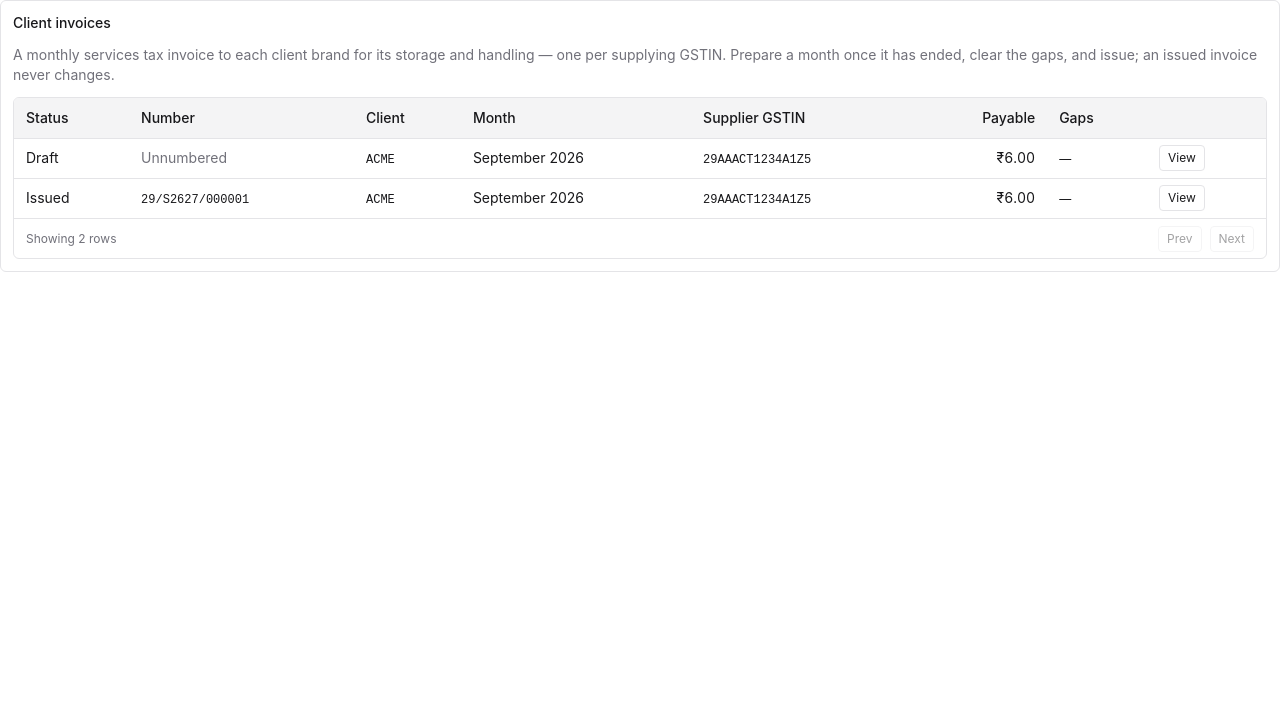
Test: ClientInvoices › 21-5b: the Line records panel sits under the printed invoice — screen-only, never inside data-print-root
The width and height of the screenshot is (1280, 720).
Click the button "View" in the row of "29/S2627/000001". click: (1182, 198)
box: [1159,185,1205,211]
(page scrolled)
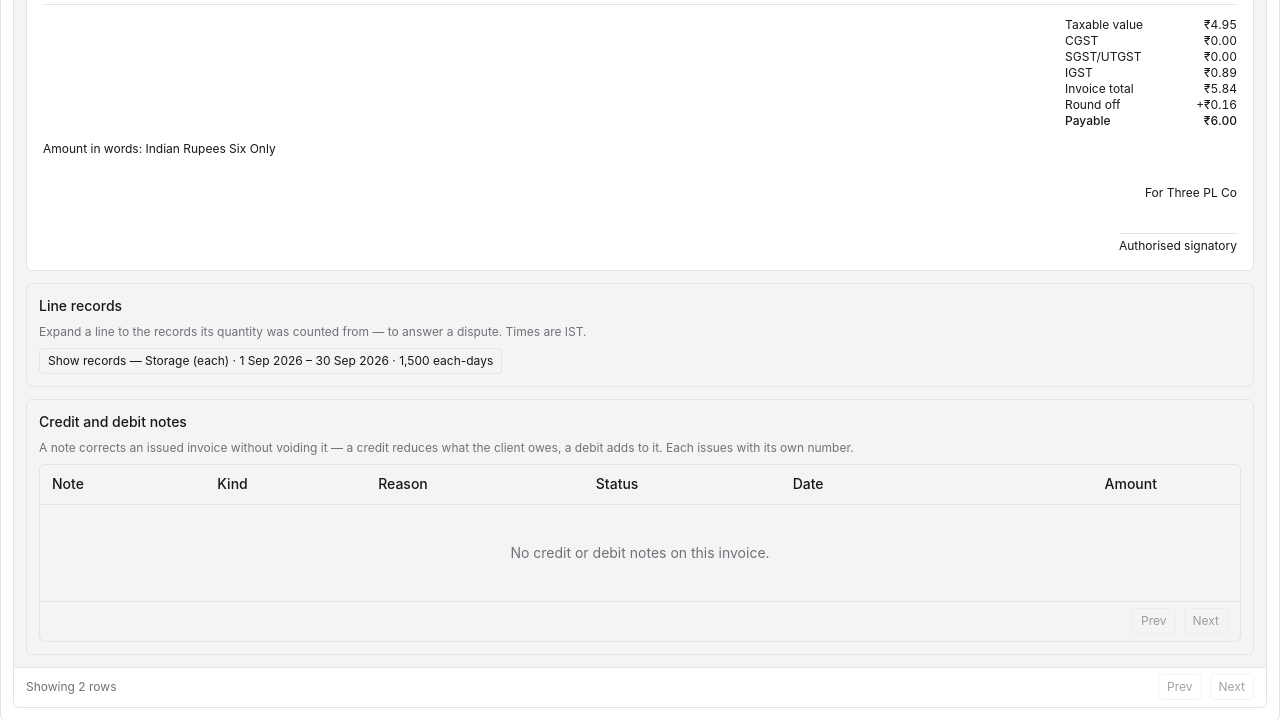
Expected: the text "Line records" is not shown
Expected: the element that starts with "Line records" is shown, [26,282,1254,386]
